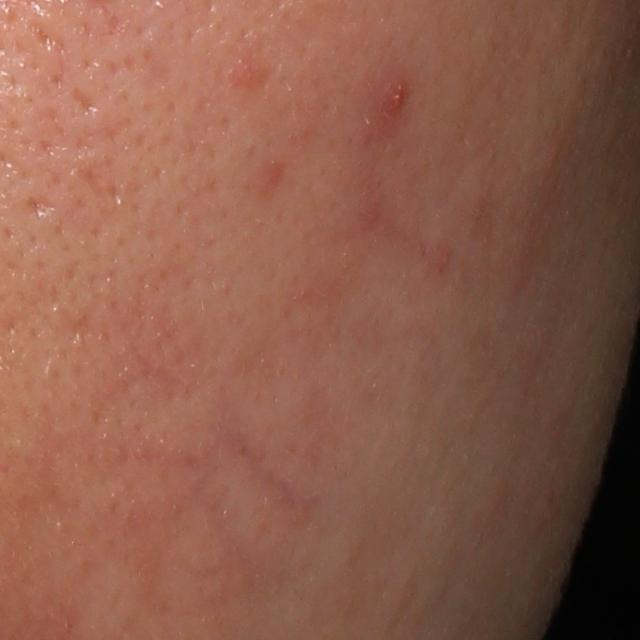atrophic_scar: (73, 155, 126, 208), (65, 82, 99, 113), (27, 197, 59, 219)
papule: (385, 77, 408, 120)
